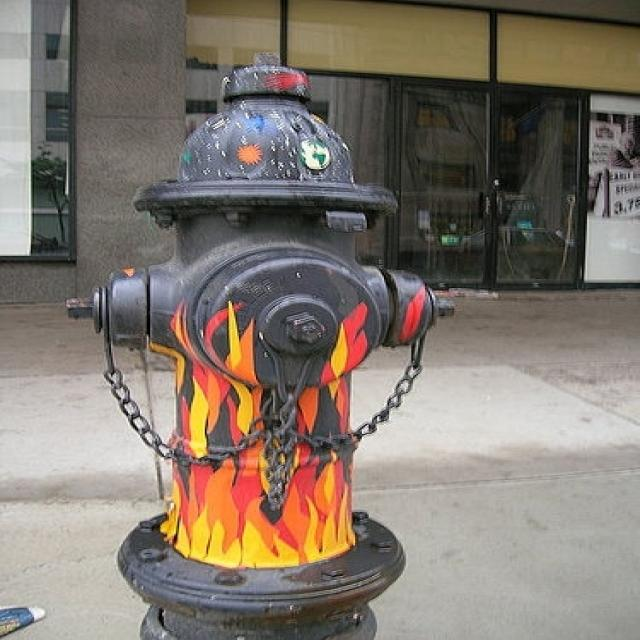fire_hydrant: (24, 64, 500, 599)
